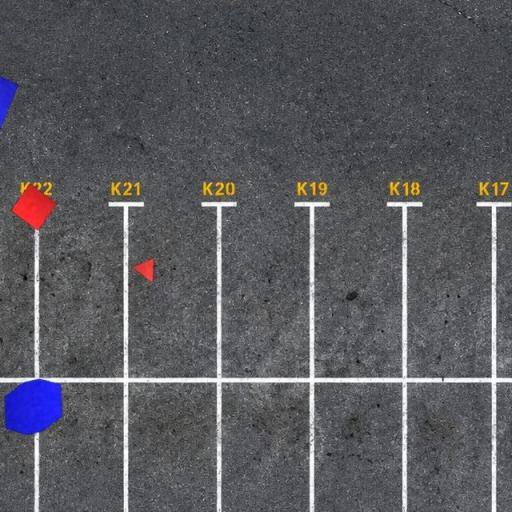RED_SQUARE: (10, 182, 58, 232)
